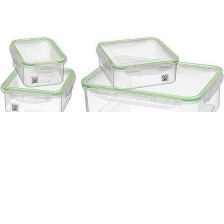plastic_box: (75, 51, 224, 112), (90, 30, 183, 93), (5, 30, 70, 91), (0, 62, 79, 112)
